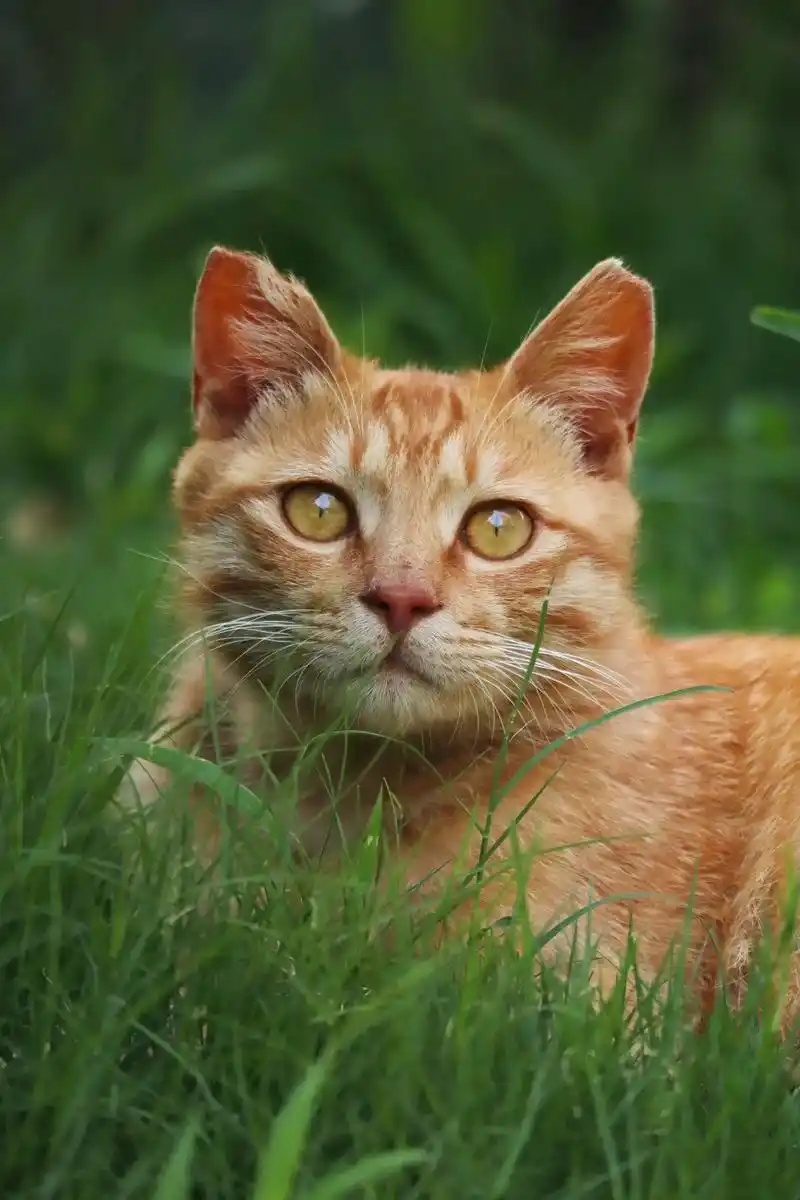橘猫: (171, 248, 652, 755)
